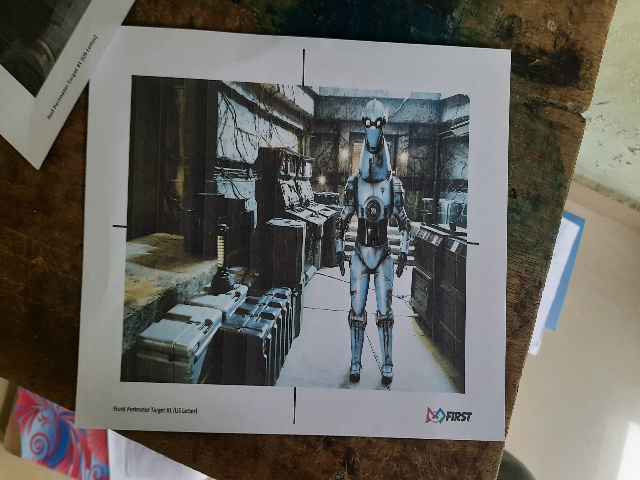fpt1: (102, 36, 478, 442)
